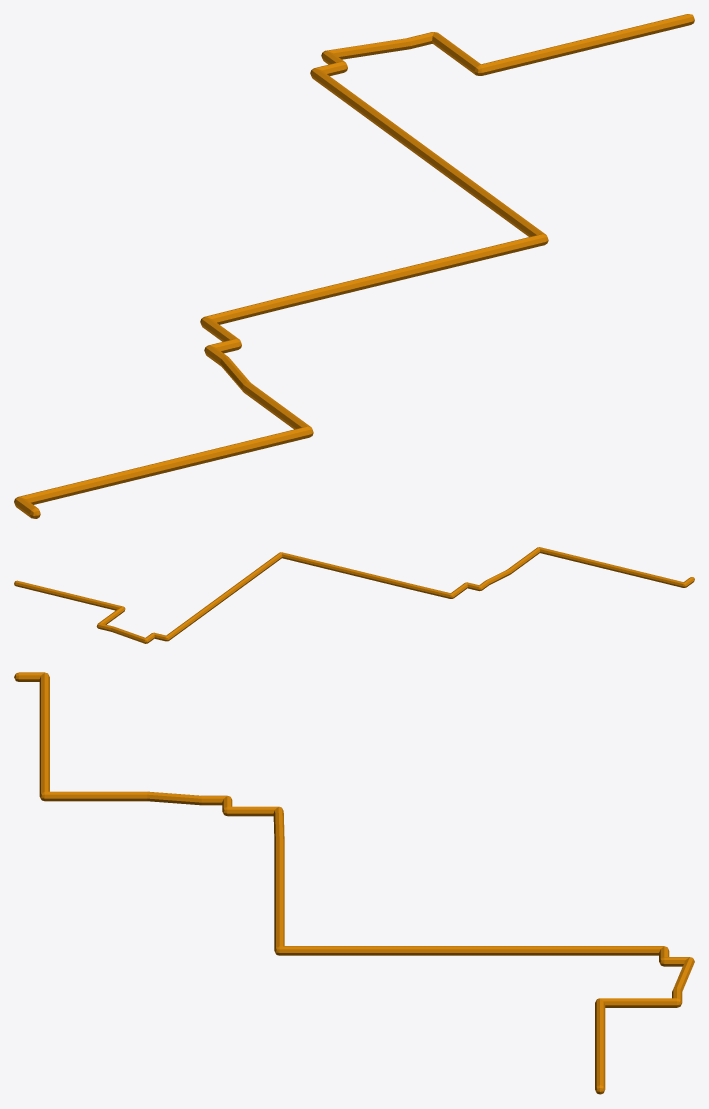
The picture shows the model from 3 angles, top to bottom: view 1: azimuth 30°, elevation 25°; view 2: azimuth 150°, elevation 25°; view 3: azimuth 270°, elevation 25°; orthographic projection. The views are drawn at different scales.
Size of the model in its own units: 1923 by 20 by 1328.
